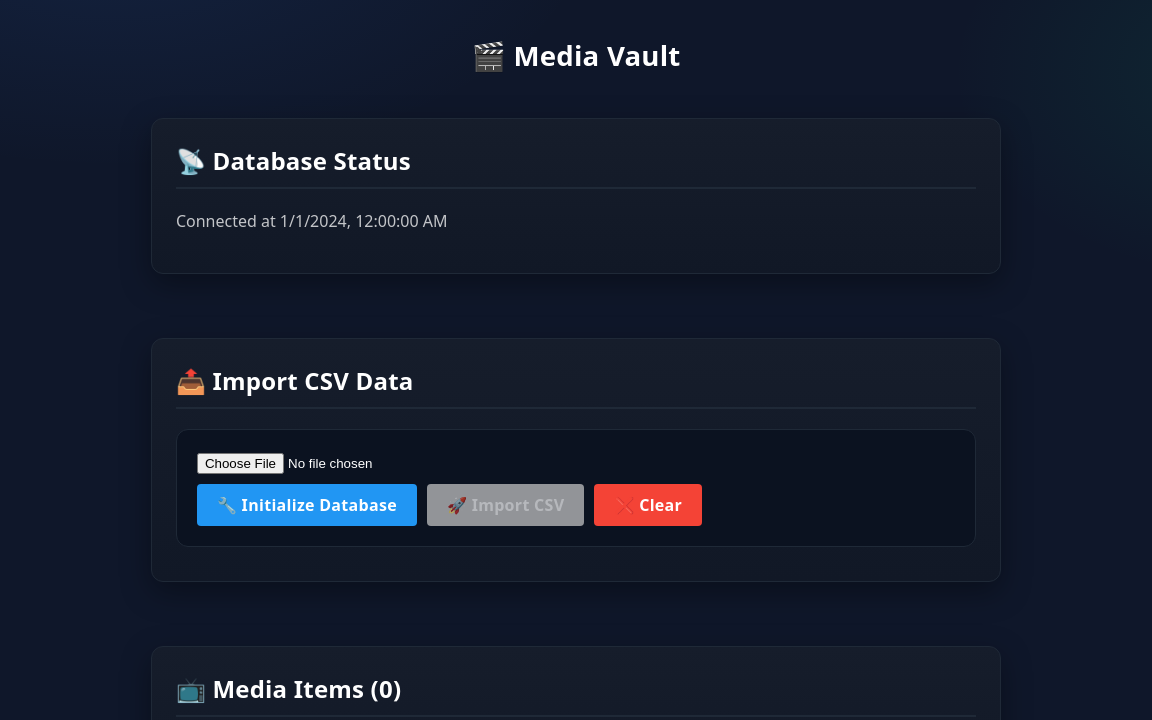
Scenario: App Component › Loading States › should show loading state during database initialization
Click the button "🔧 Initialize Database".
click(307, 505)  # box [197,484,417,526]
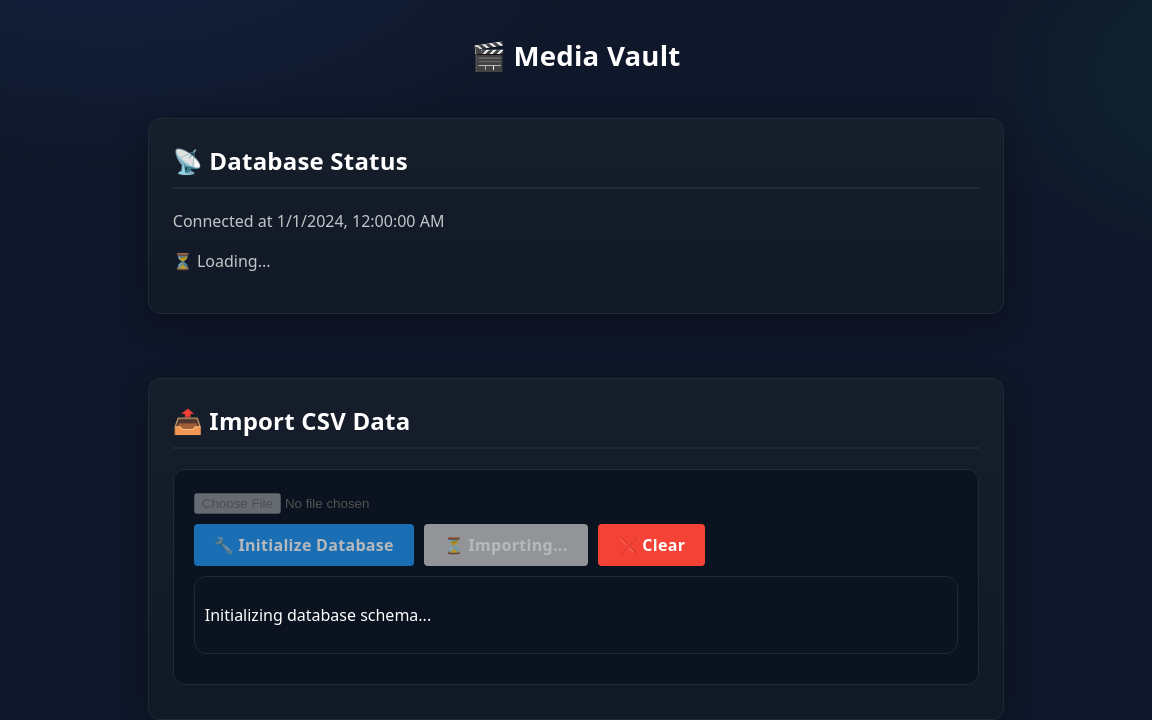
Check: the text "⏳ Loading..." is shown, box [173,250,270,272]
Check: the button "🔧 Initialize Database" is disabled, box [194,524,414,566]
